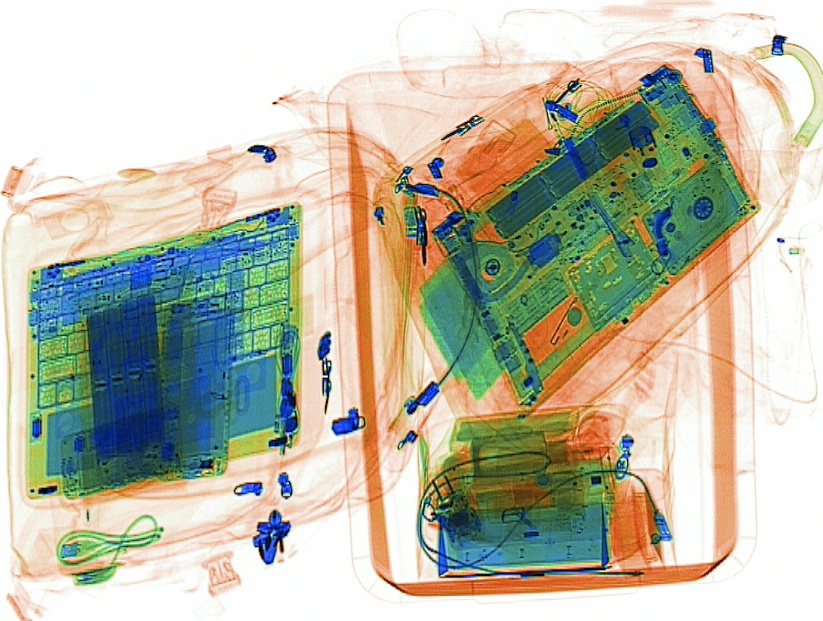powerbank: (70, 287, 176, 487)
